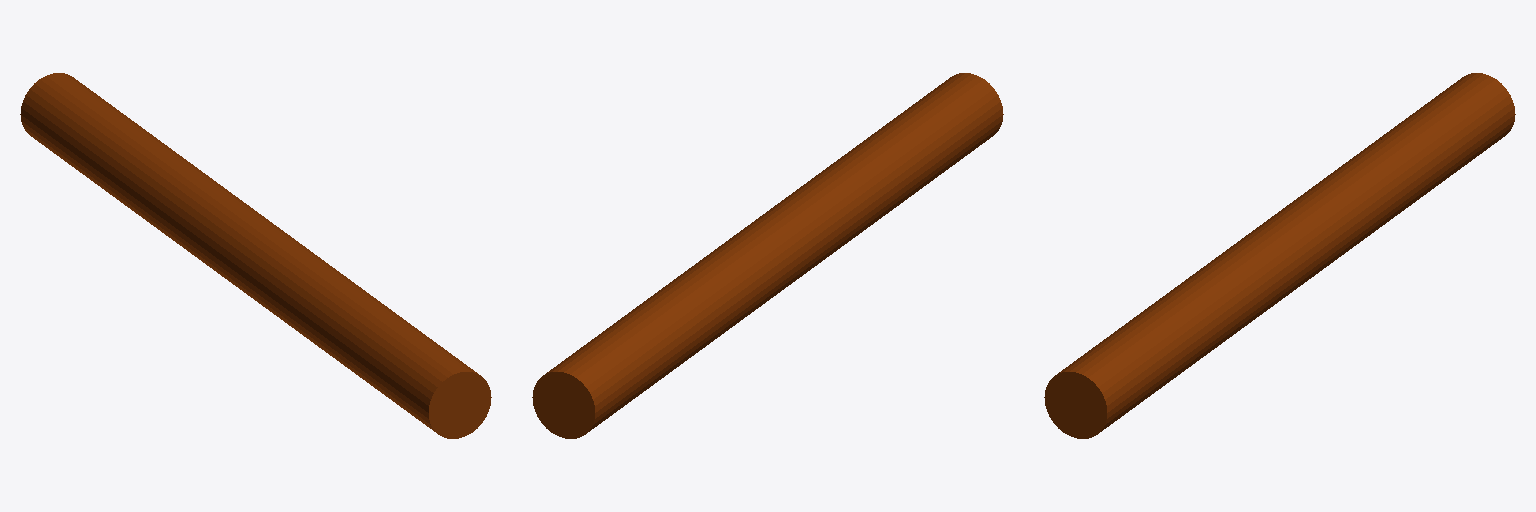
The robot description file, URDF, robot "cylinder":
<?xml version="1.0" ?>
<!-- =================================================================================== -->
<!-- |    This document was autogenerated by xacro from cylinder.xacro                 | -->
<!-- |    EDITING THIS FILE BY HAND IS NOT RECOMMENDED                                 | -->
<!-- =================================================================================== -->
<robot name="cylinder">
  <link name="world"/>
  <link name="base">
    <visual>
      <origin rpy="1.57079633 0 0" xyz="0 0 0"/>
      <geometry>
        <cylinder length="7.07106781185" radius="0.315"/>
      </geometry>
      <material name="cylinder_material">
        <color rgba="0.545 0.271 0.075 1.0"/>
        <texture filename="../textures/tree_bark.jpg"/>
      </material>
    </visual>
    <collision>
      <origin rpy="1.57079633 0 0" xyz="0 0 0"/>
      <geometry>
        <cylinder length="7.07106781185" radius="0.315"/>
      </geometry>
    </collision>
    <inertial>
      <origin rpy="0 0 0" xyz="0 0 0"/>
      <mass value="1"/>
      <inertia ixx="4.191472916648428" ixy="0.0" ixz="0.0" iyy="4.191472916648428" iyz="0.0" izz="24.999999999890573"/>
    </inertial>
  </link>
  <joint name="base_joint" type="fixed">
    <parent link="world"/>
    <child link="base"/>
    <origin rpy="0 0 0" xyz="0.0 0.0 0.0"/>
  </joint>
</robot>

--- Render facts (derived) ---
3 views of the same robot in one strip: view 1: azimuth 30°, elevation 25°; view 2: azimuth 150°, elevation 25°; view 3: azimuth 330°, elevation 25° (orthographic).
Robot: cylinder — 2 links, 1 joints (1 fixed); root link world; default pose: every joint at zero.
Visible links, largest first — view 1: base; view 2: base; view 3: base.
Link boxes in pixels (x1,y1,x2,y2): base: [20, 73, 491, 438]; base: [532, 73, 1003, 438]; base: [1044, 73, 1515, 438].
Bounding box of the posed robot: 0.63 × 7.07 × 0.63 m (x, y, z).
Geometry: primitives only (box / cylinder / sphere), no mesh files.
